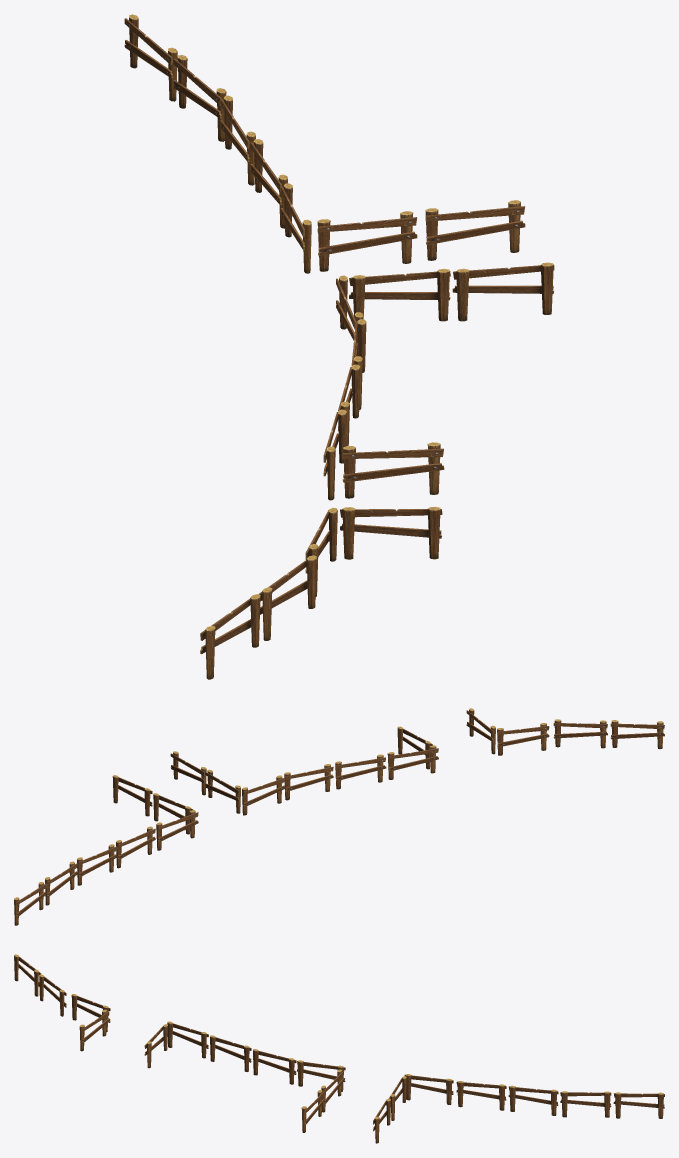
The model's file is Area_11_22.fbx.
3 views of the same model, one above another, from view 1: azimuth 30°, elevation 25°; view 2: azimuth 150°, elevation 25°; view 3: azimuth 270°, elevation 25° (orthographic). The views are drawn at different scales.
Parts seen in each view (by area): view 1: Area_11_22; view 2: Area_11_22; view 3: Area_11_22.
Boxes of the visible parts, bbox=[...] form: Area_11_22: bbox=[124, 14, 554, 679]; Area_11_22: bbox=[14, 708, 664, 925]; Area_11_22: bbox=[14, 954, 664, 1143].
Bounding box in the file's own units: 2006 × 142 × 3319.
